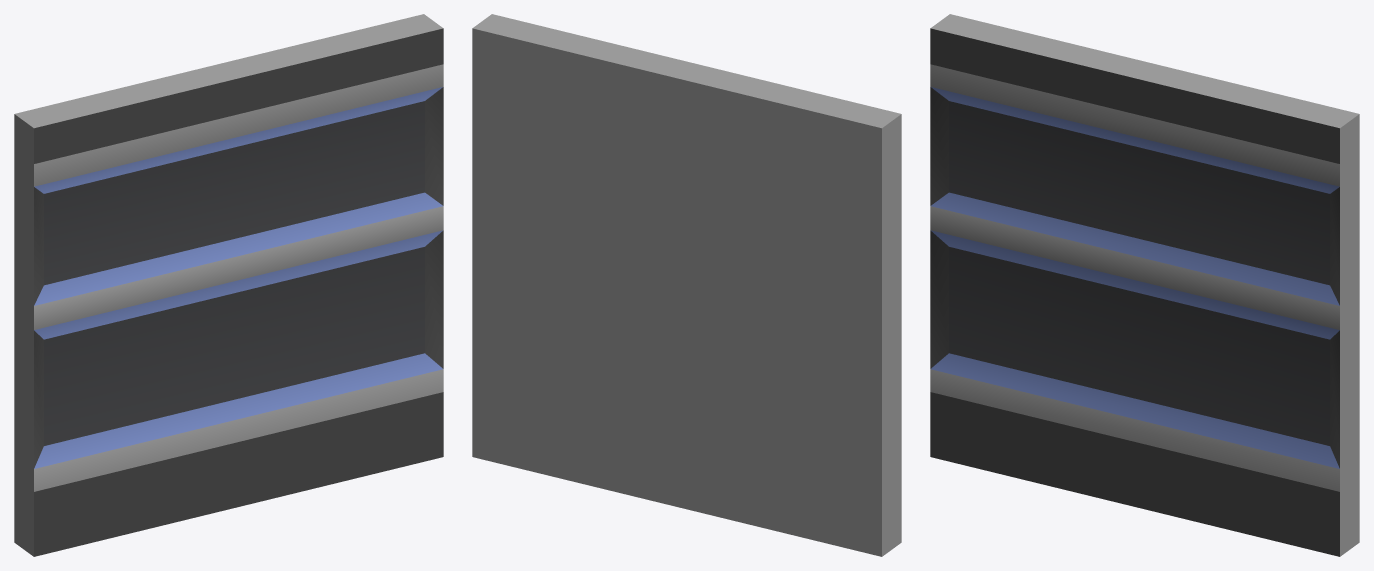
File: Wall glow1.fbx
3 renders of one model, left to right at view 1: azimuth 30°, elevation 25°; view 2: azimuth 150°, elevation 25°; view 3: azimuth 330°, elevation 25°, orthographic.
Visible parts, largest first — view 1: Wall_asset2; view 2: Wall_asset2; view 3: Wall_asset2.
Boxes of the visible parts, x1=… form: Wall_asset2: x1=14, y1=14, x2=443, y2=556; Wall_asset2: x1=472, y1=14, x2=901, y2=556; Wall_asset2: x1=930, y1=14, x2=1359, y2=556.
Bounding box in the file's own units: 265 × 265 × 22.03.
